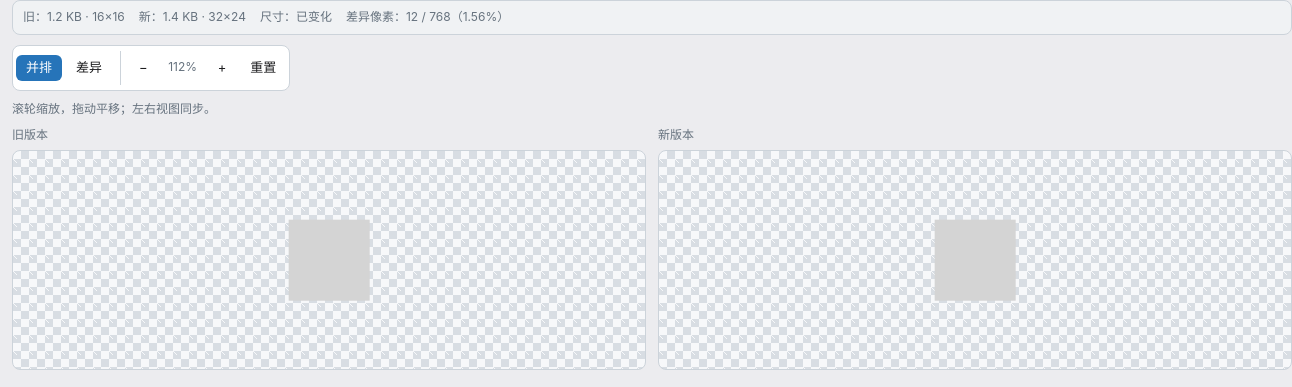
Scenario: ImageDiffViewer › supports wheel zoom, drag pan, and reset
Check: the element with test id "image-diff-zoom" does not show "100%"
Press the mouse on the element with test id "image-diff-viewport-original" at (329, 260), box [12,150,646,370]
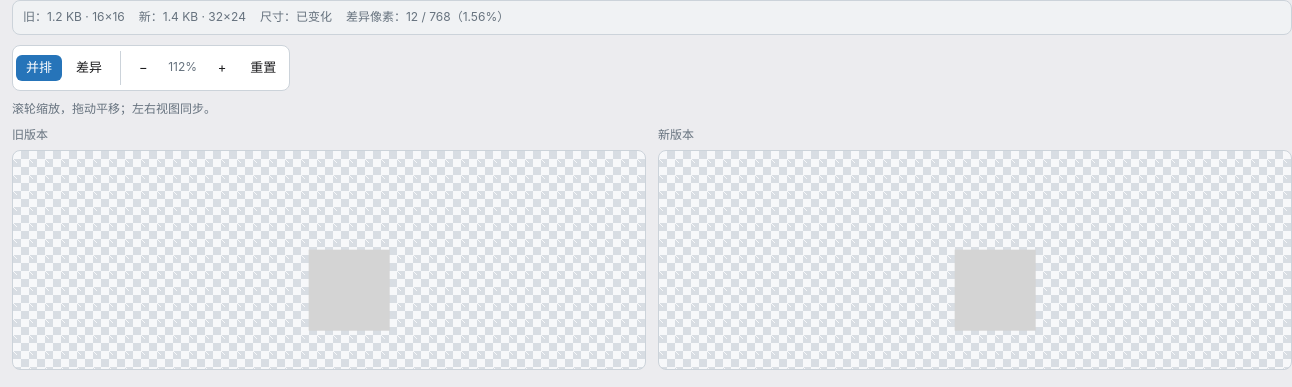
Click the button with aria-label "重置视图" at (263, 68), box [240,55,286,80]
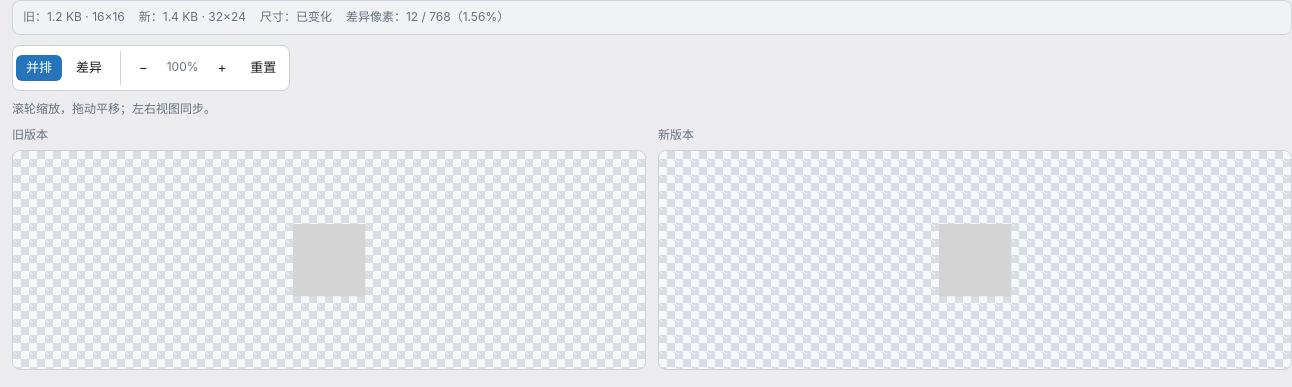
Check: the text with test id "image-diff-zoom" reads "100%", box [167,59,198,74]
